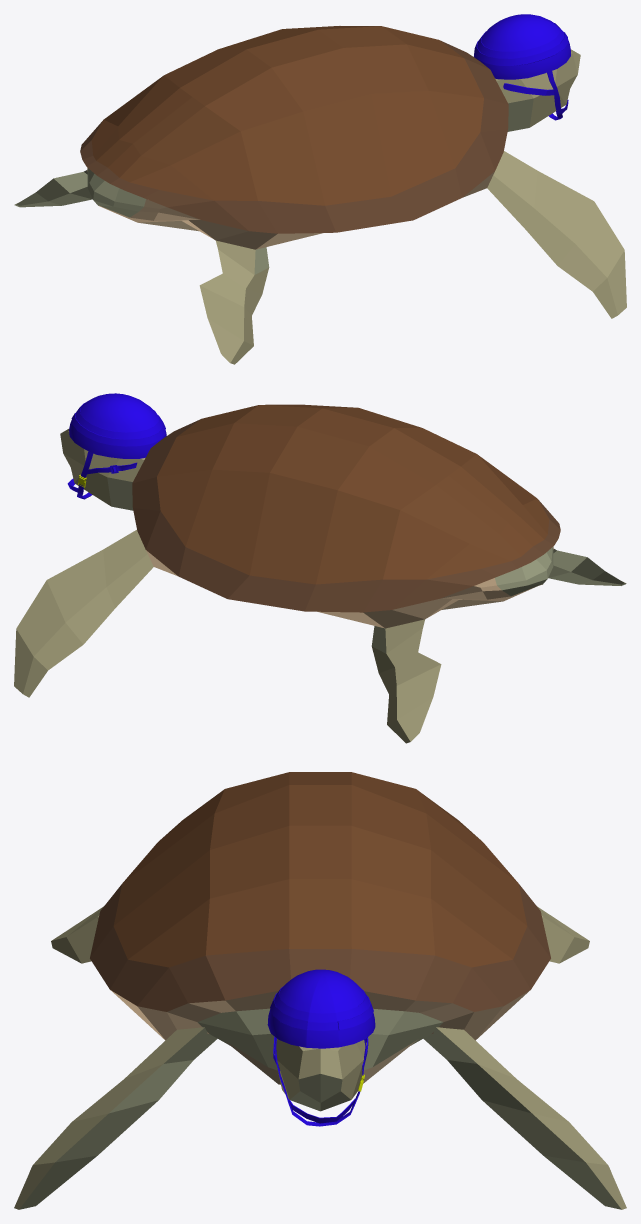
File: Turtle.fbx
3 renders of one model, top to bottom at view 1: azimuth 30°, elevation 25°; view 2: azimuth 150°, elevation 25°; view 3: azimuth 270°, elevation 25°, orthographic. The views are drawn at different scales.
Parts seen in each view (by area): view 1: uploads_files_2003002_helmet+idf; view 2: uploads_files_2003002_helmet+idf; view 3: uploads_files_2003002_helmet+idf.
Boxes of the visible parts, x1=… form: uploads_files_2003002_helmet+idf: x1=14, y1=14, x2=626, y2=364; uploads_files_2003002_helmet+idf: x1=14, y1=393, x2=626, y2=743; uploads_files_2003002_helmet+idf: x1=14, y1=772, x2=626, y2=1209.
Size of the model in its own units: 326 by 147 by 285.
